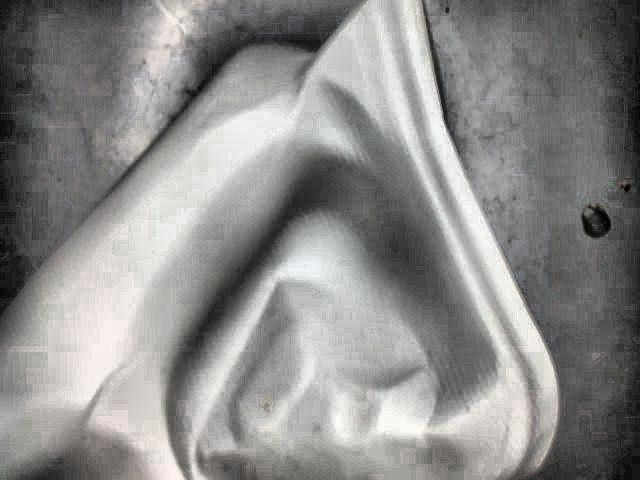Paper: (0, 0, 561, 480)
